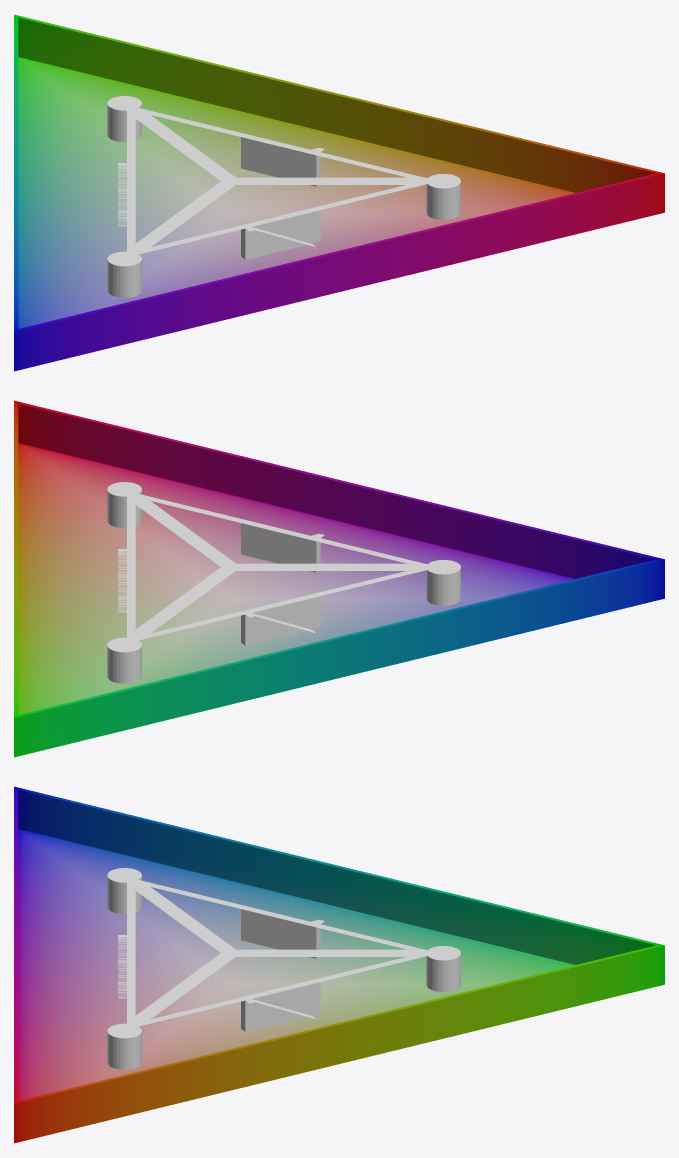
The model's file is arena.fbx.
3 renders of one model, top to bottom at view 1: azimuth 30°, elevation 25°; view 2: azimuth 150°, elevation 25°; view 3: azimuth 270°, elevation 25°, orthographic.
Visible parts, largest first — view 1: Base, UpperLevel, PurpleWall, YellowWall, BluePillar, RedPillar, GreenPillar, GreenStair; view 2: Base, UpperLevel, BlueWall, PurpleWall, GreenPillar, BluePillar, RedPillar, YellowStair; view 3: Base, UpperLevel, YellowWall, BlueWall, GreenPillar, RedPillar, BluePillar, PurpleStair.
Part boxes in pixels (box(x1,y1,x2,y2)): Base: box(14, 14, 664, 371); UpperLevel: box(127, 108, 438, 257); PurpleWall: box(241, 210, 320, 259); YellowWall: box(241, 137, 320, 186); BluePillar: box(107, 251, 141, 297); RedPillar: box(426, 174, 460, 219); GreenPillar: box(107, 96, 141, 141); GreenStair: box(118, 163, 126, 226); Base: box(14, 400, 664, 757); UpperLevel: box(127, 491, 438, 640); BlueWall: box(241, 596, 320, 645); PurpleWall: box(241, 523, 320, 572); GreenPillar: box(107, 637, 141, 683); BluePillar: box(426, 560, 460, 605); RedPillar: box(107, 482, 141, 527); YellowStair: box(118, 549, 126, 612); Base: box(14, 786, 664, 1143); UpperLevel: box(127, 877, 427, 1029); YellowWall: box(241, 982, 320, 1031); BlueWall: box(241, 909, 320, 958); GreenPillar: box(426, 946, 460, 991); RedPillar: box(107, 1023, 141, 1069); BluePillar: box(107, 868, 141, 913); PurpleStair: box(118, 935, 126, 998).
Bounding box in the file's own units: 17321 × 1000 × 15000.
